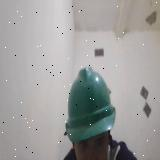Helmet: (65, 66, 116, 140)
